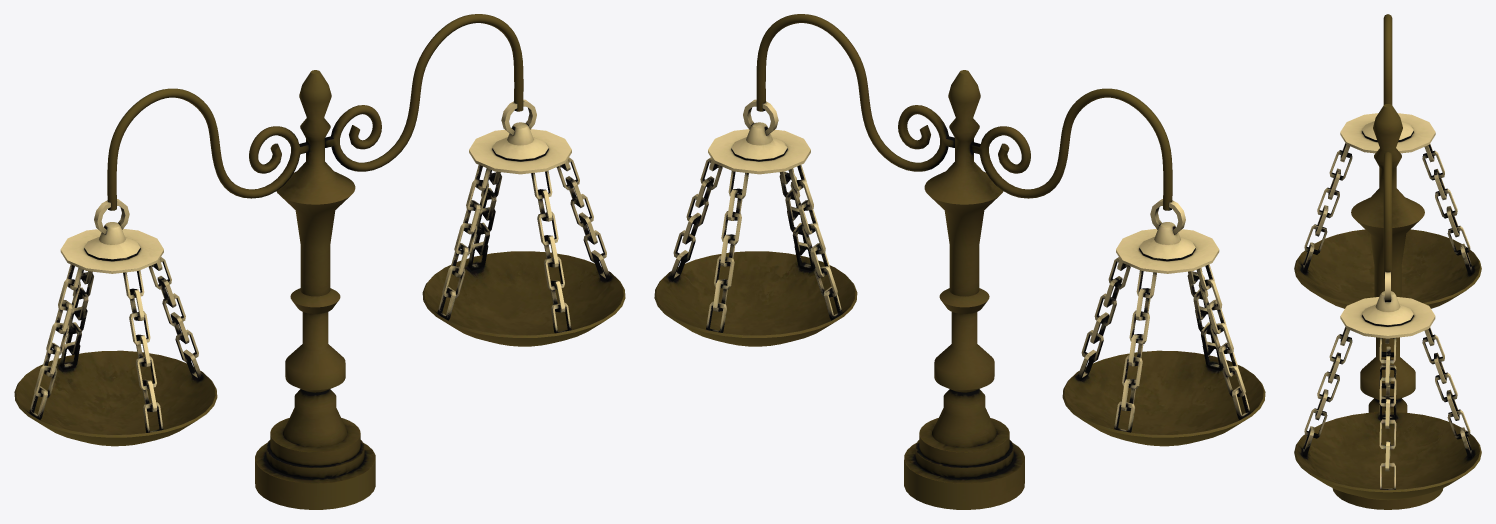
Rendered from scales_of_justice.glb.
3 views of the same model, side by side, from view 1: azimuth 30°, elevation 25°; view 2: azimuth 150°, elevation 25°; view 3: azimuth 270°, elevation 25° (orthographic). The views are drawn at different scales.
Parts seen in each view (by area): view 1: defaultMaterial (×6); view 2: defaultMaterial (×6); view 3: defaultMaterial (×5).
Boxes of the visible parts, left/top/right/bottom form: defaultMaterial (×6): left=14, top=14, right=625, bottom=509; defaultMaterial (×6): left=654, top=14, right=1265, bottom=509; defaultMaterial (×5): left=1294, top=14, right=1481, bottom=509.
Bounding box in the file's own units: 1115 × 788 × 336.
6 materials, 6 textured.
